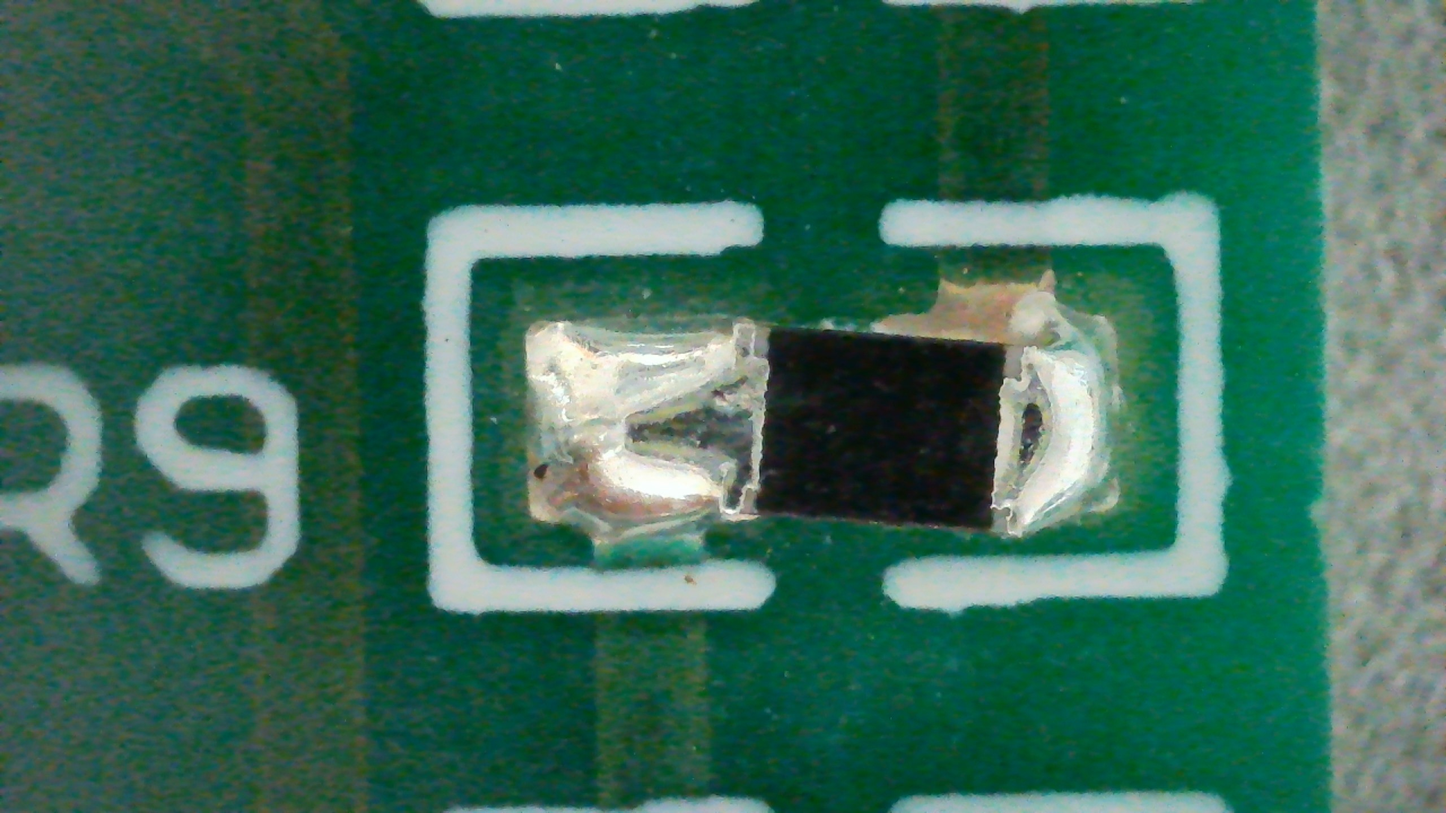NG: (525, 283, 1121, 546)
